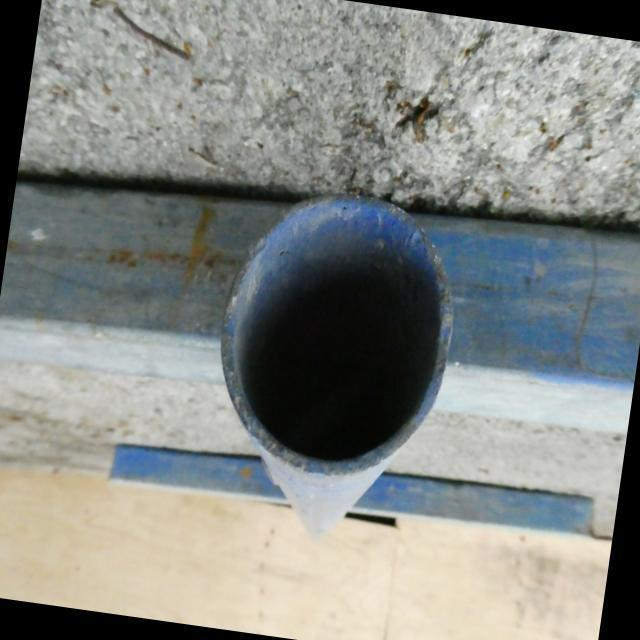pipe: (219, 192, 453, 477)
